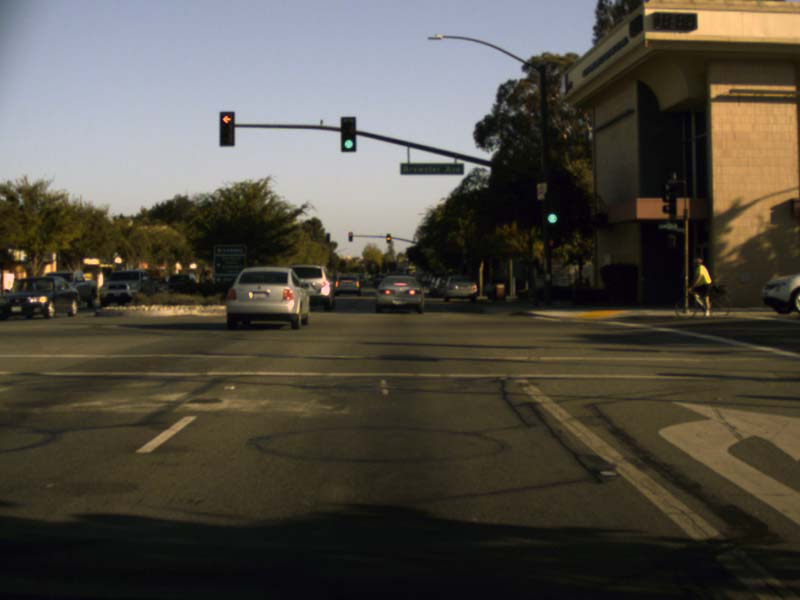Green: (542, 200, 562, 227), (340, 117, 355, 150)
Red: (219, 111, 234, 145)
